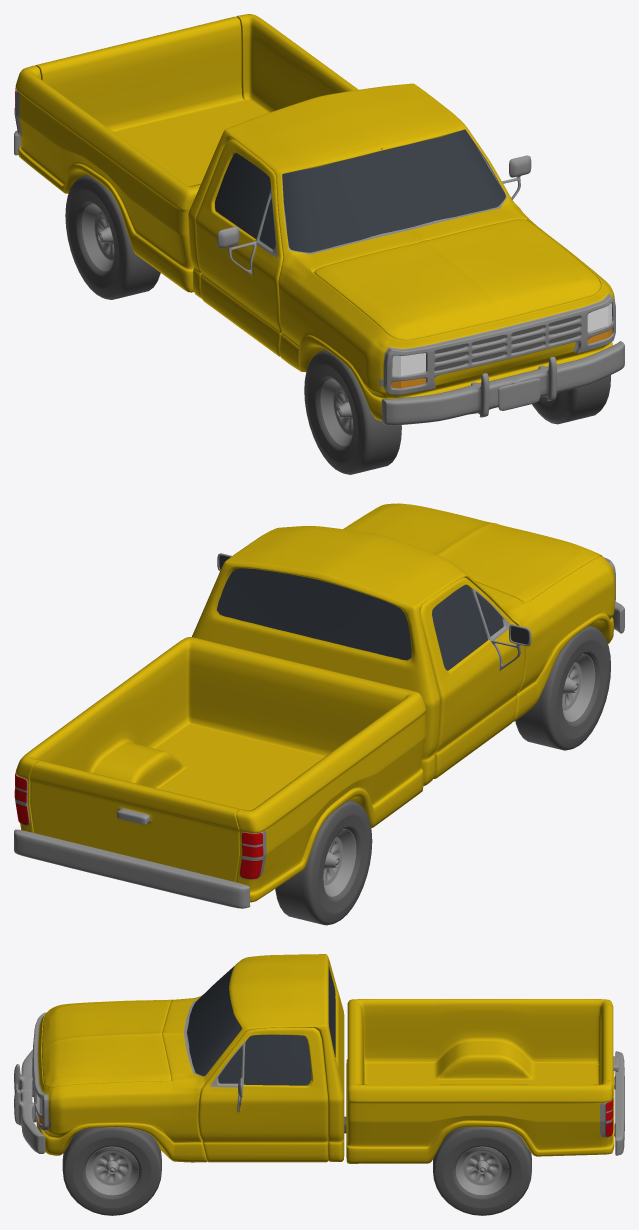
Rendered from Pick-Up old.fbx.
3 views of the same model, one above another, from view 1: azimuth 30°, elevation 25°; view 2: azimuth 150°, elevation 25°; view 3: azimuth 270°, elevation 25° (orthographic). The views are drawn at different scales.
Parts seen in each view (by area): view 1: Cube, Cubo, Plane, Círculo.004, Círculo.007, Círculo.001, Círculo.006, Círculo.005, Cubo.004, Cubo.002; view 2: Cubo, Cube, Plane, Círculo.007, Círculo.004, Círculo.006, Círculo.005; view 3: Cube, Cubo, Plane, Círculo.001, Círculo.002, Círculo.003, Círculo.
Part boxes in pixels (x1=…): Cube: x1=188, y1=83, x2=624, y2=425; Cubo: x1=14, y1=14, x2=358, y2=292; Plane: x1=215, y1=129, x2=505, y2=252; Círculo.004: x1=304, y1=350, x2=401, y2=474; Círculo.007: x1=65, y1=175, x2=160, y2=299; Círculo.001: x1=532, y1=375, x2=610, y2=424; Círculo.006: x1=81, y1=203, x2=114, y2=271; Círculo.005: x1=320, y1=378, x2=353, y2=446; Cubo.004: x1=434, y1=316, x2=579, y2=370; Cubo.002: x1=392, y1=303, x2=612, y2=376; Cubo: x1=14, y1=637, x2=425, y2=908; Cube: x1=192, y1=503, x2=624, y2=785; Plane: x1=217, y1=555, x2=528, y2=670; Círculo.007: x1=275, y1=800, x2=372, y2=925; Círculo.004: x1=515, y1=625, x2=610, y2=750; Círculo.006: x1=323, y1=829, x2=356, y2=896; Círculo.005: x1=562, y1=654, x2=595, y2=722; Cube: x1=14, y1=954, x2=344, y2=1162; Cubo: x1=346, y1=999, x2=624, y2=1163; Plane: x1=187, y1=966, x2=335, y2=1085; Círculo.001: x1=62, y1=1127, x2=161, y2=1215; Círculo.002: x1=433, y1=1127, x2=531, y2=1215; Círculo.003: x1=455, y1=1146, x2=509, y2=1195; Círculo: x1=85, y1=1146, x2=139, y2=1195.
Size of what is drawn, in the model's own units: 305 by 228 by 665.
